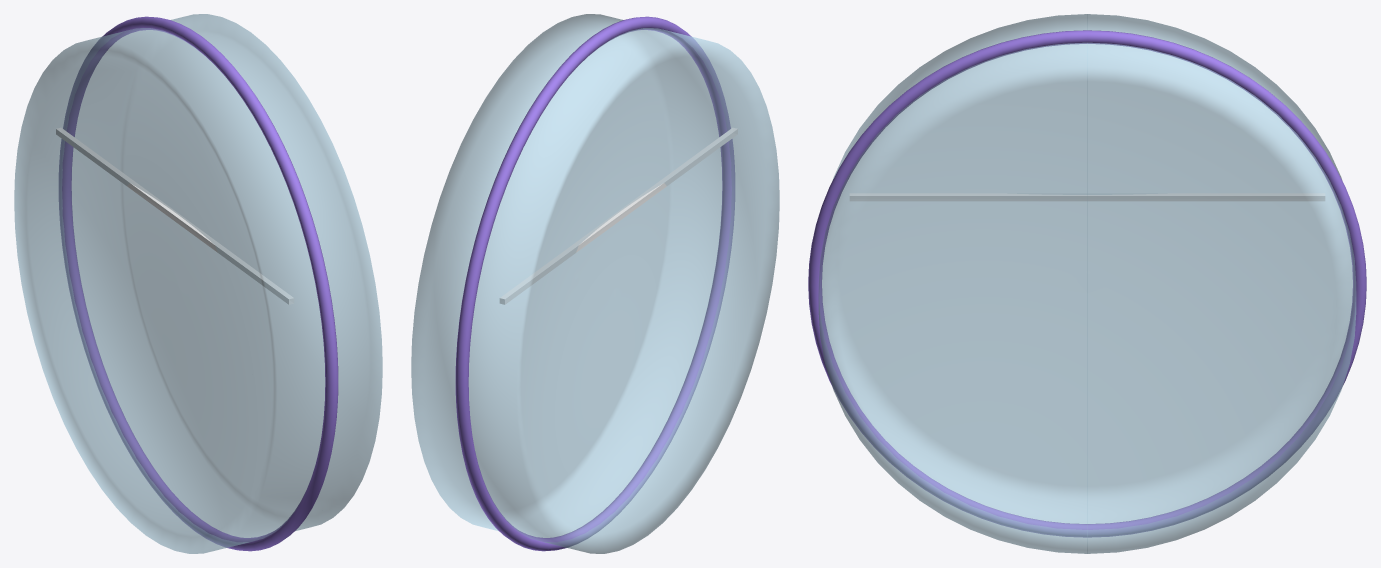
File: lens-concave.glb
3 views of the same model, side by side, from view 1: azimuth 30°, elevation 25°; view 2: azimuth 150°, elevation 25°; view 3: azimuth 270°, elevation 25° (orthographic). The views are drawn at different scales.
Visible parts, largest first — view 1: optical element, lens rim, vertical glint; view 2: optical element, lens rim, vertical glint; view 3: optical element, lens rim, vertical glint.
Part boxes in pixels (box(x1,y1,x2,y2)): optical element: box(14, 14, 382, 553); lens rim: box(59, 16, 338, 551); vertical glint: box(56, 128, 294, 304); optical element: box(411, 14, 779, 553); lens rim: box(455, 16, 734, 551); vertical glint: box(499, 128, 737, 304); optical element: box(818, 14, 1356, 553); lens rim: box(808, 30, 1366, 537); vertical glint: box(849, 193, 1325, 201).
Size of the model in its own units: 0.36 by 1.62 by 1.62.
